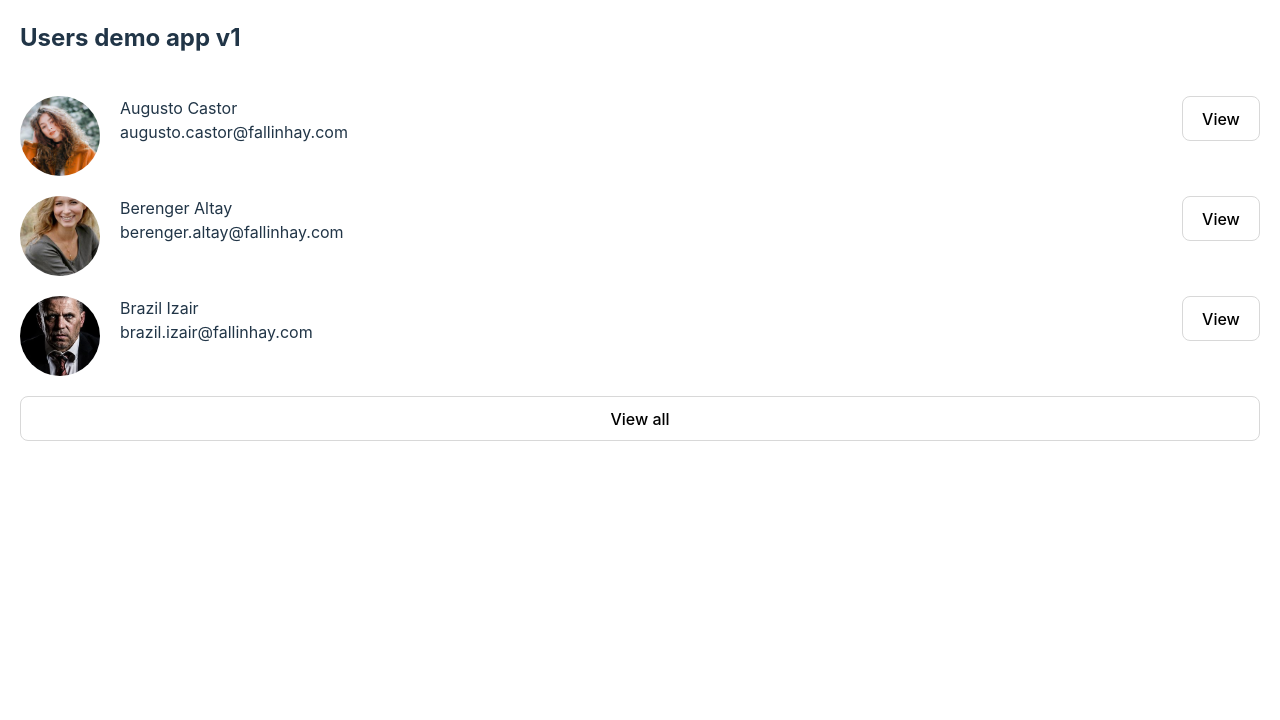
Test: home › checks if modal opens for first user from the list,        checks elements and closes it
Click the button with test id "view_user_item_btn" in the row of "augusto.castor@fallinhay.com" at (1221, 119), box [1182,96,1260,141]
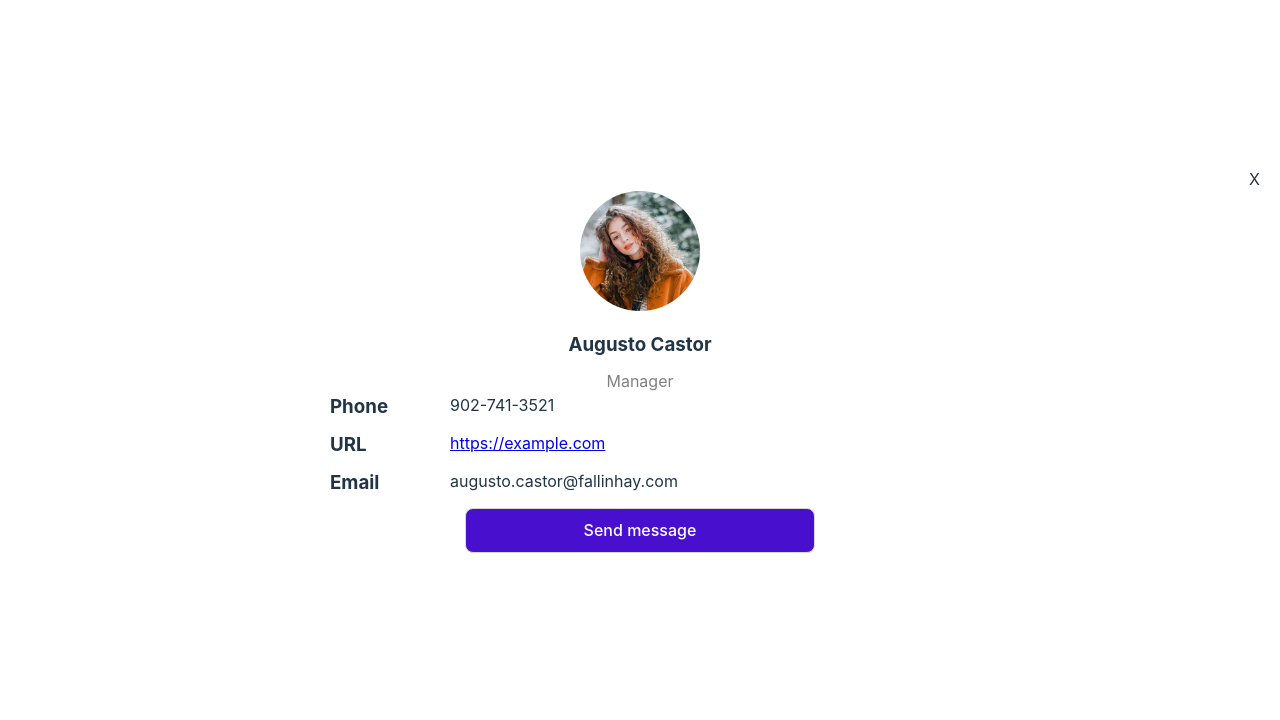
Now the element with test id "user_modal_item" is shown, box [330,191,815,553]
Now the picture with test id "user_modal_img" is shown, box [580,191,700,311]
Now the heading "Augusto Castor" is shown, box [568,331,712,359]
Click the icon with test id "close_modal_btn" at (1255, 179), box [1249,167,1260,191]
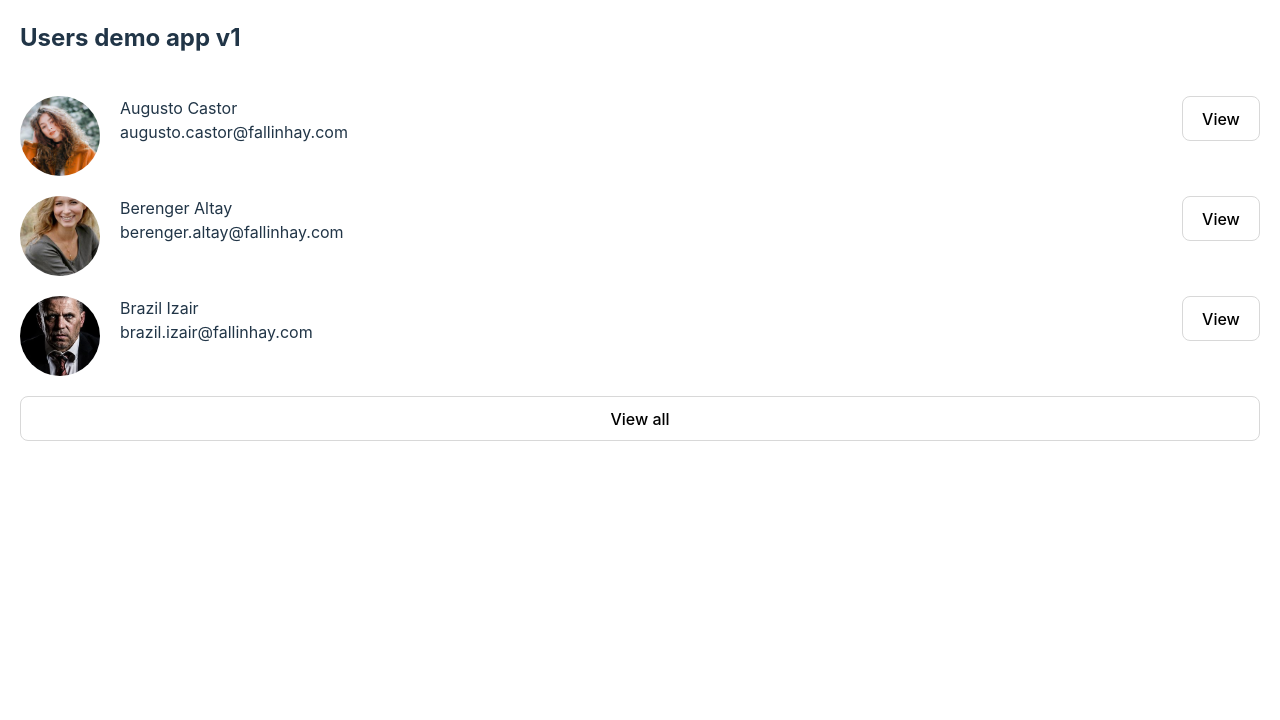
Now the element with test id "user_modal_item" is gone
